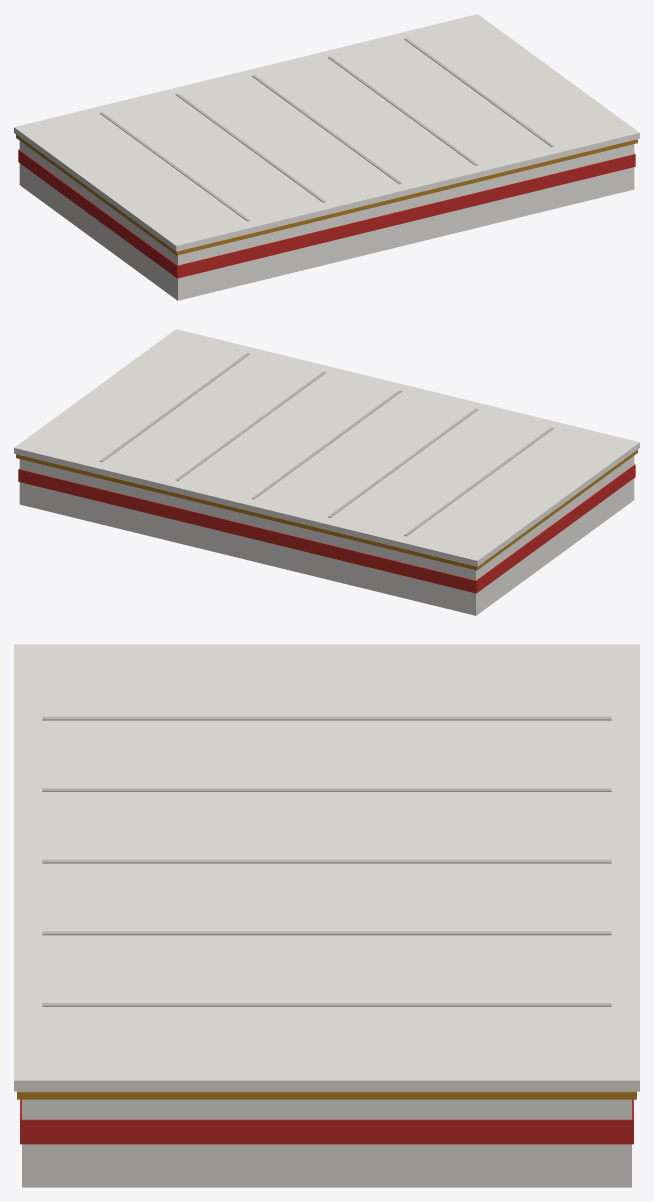
File: SM_GrandTerrace.fbx
3 views of the same model, one above another, from view 1: azimuth 30°, elevation 25°; view 2: azimuth 150°, elevation 25°; view 3: azimuth 270°, elevation 25° (orthographic). The views are drawn at different scales.
Parts seen in each view (by area): view 1: SM_GrandTerrace; view 2: SM_GrandTerrace; view 3: SM_GrandTerrace.
Part boxes in pixels (bbox=[...]): SM_GrandTerrace: bbox=[14, 14, 639, 300]; SM_GrandTerrace: bbox=[14, 329, 639, 615]; SM_GrandTerrace: bbox=[14, 644, 639, 1187].
Size of the model in its own units: 10.16 by 6.16 by 1.22.
